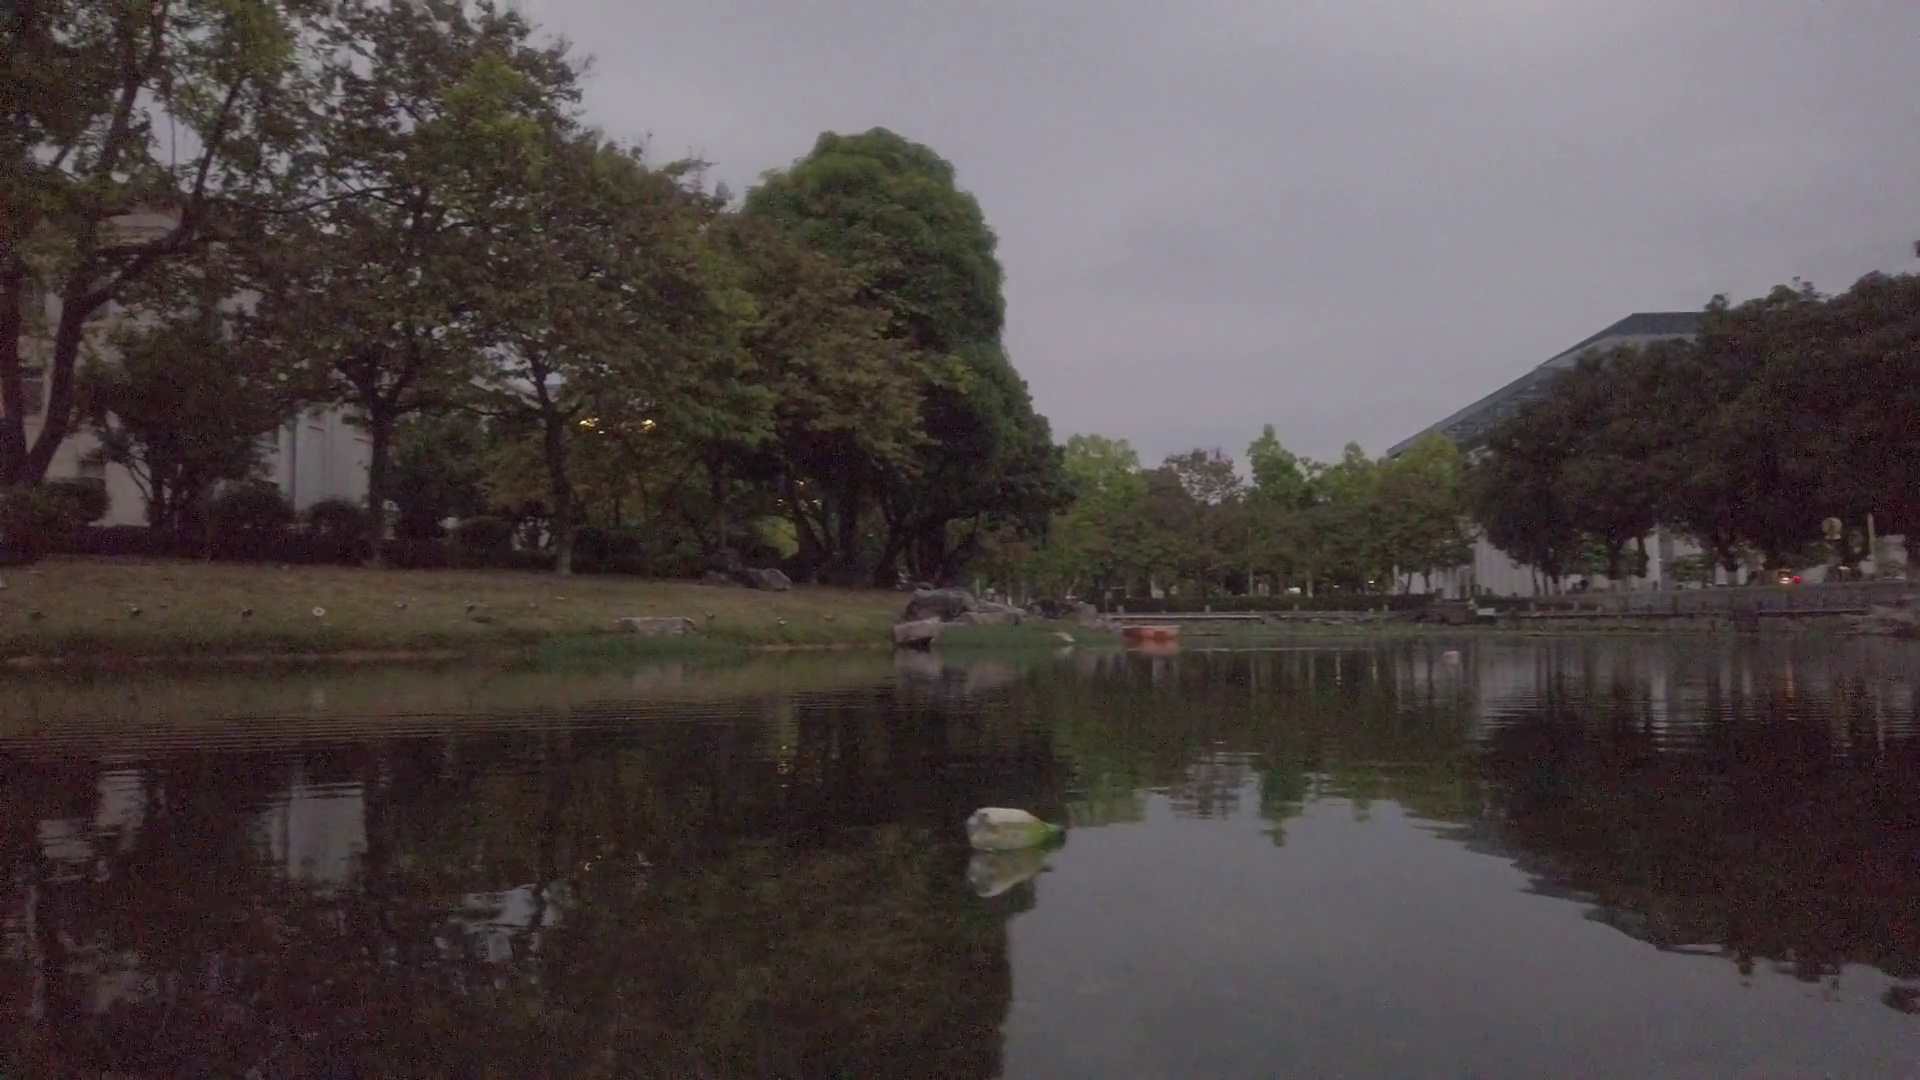bottle: (967, 807, 1064, 849), (1435, 647, 1464, 665)
